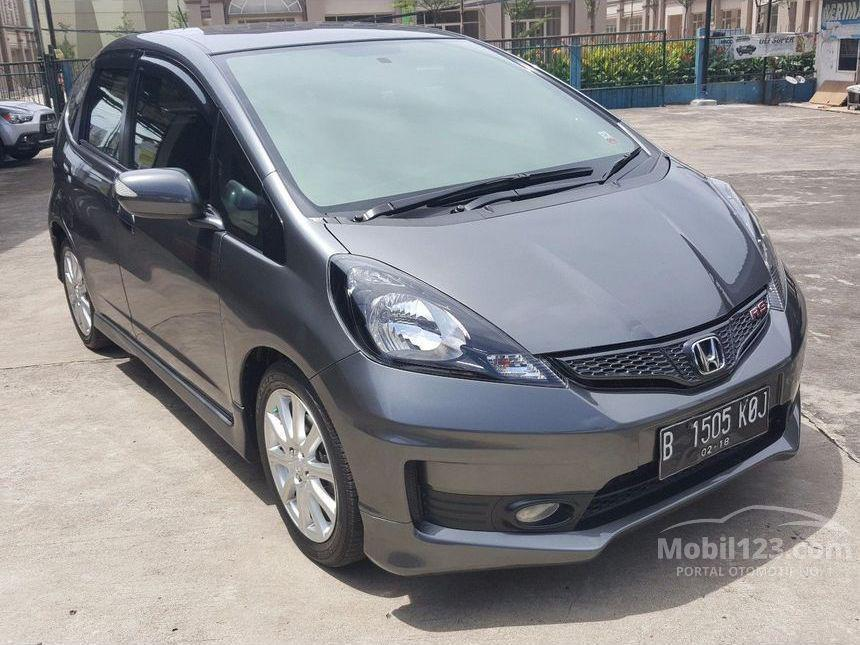plate: (660, 386, 770, 480)
